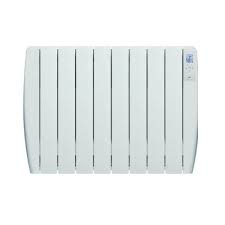Radiator: (21, 41, 202, 176)
